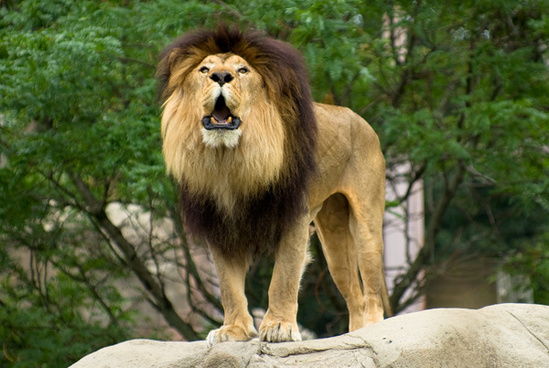lion: (164, 40, 286, 187)
